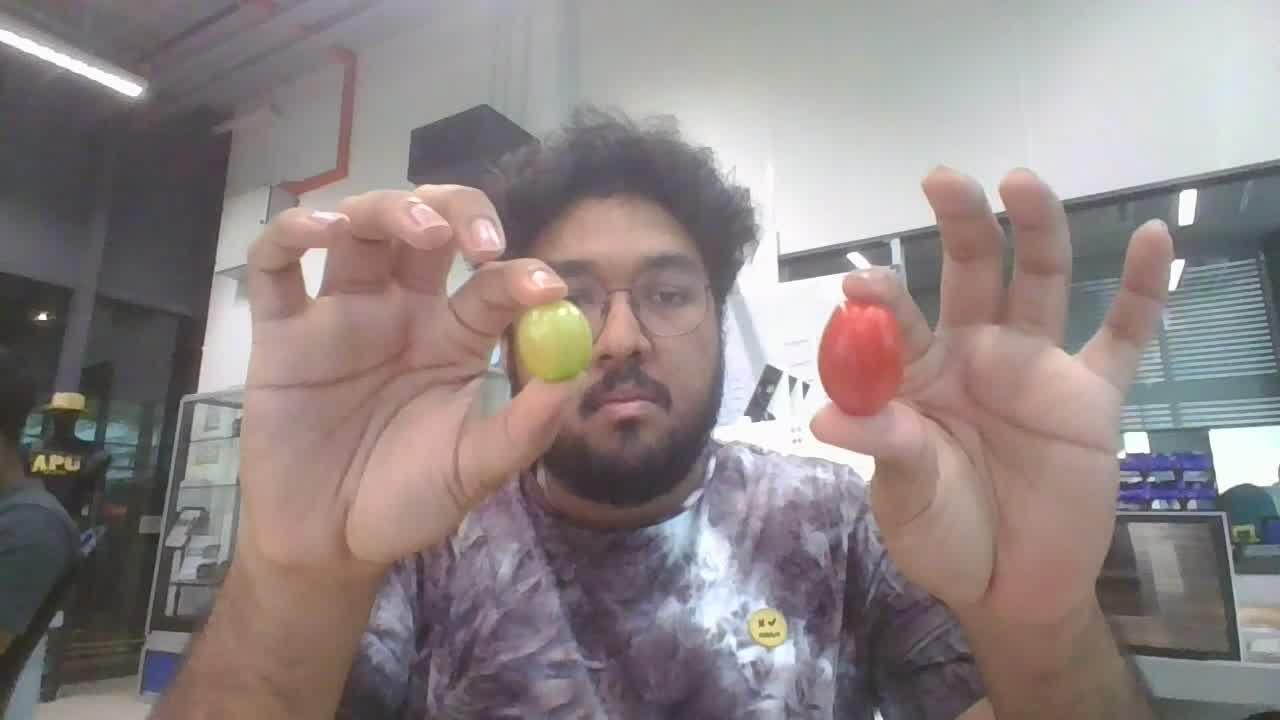green_cherry_tomato: (512, 300, 592, 382)
red_cherry_tomato: (817, 300, 904, 415)
